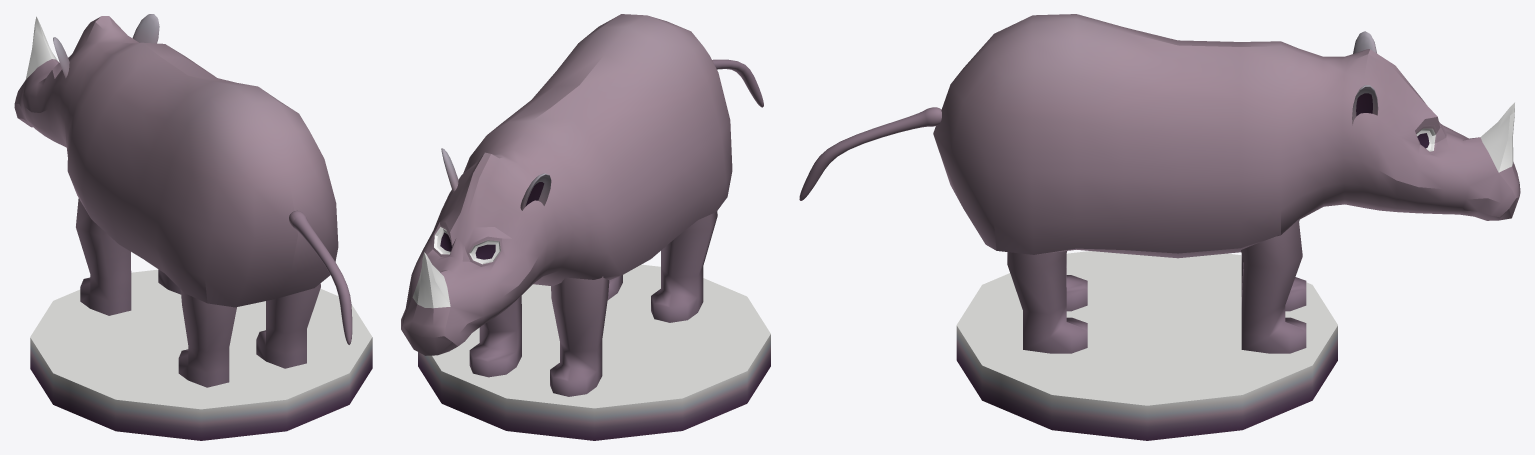
File: Statue Rhino.fbx
3 views of the same model, side by side, from view 1: azimuth 30°, elevation 25°; view 2: azimuth 150°, elevation 25°; view 3: azimuth 270°, elevation 25° (orthographic). The views are drawn at different scales.
Parts seen in each view (by area): view 1: Statue Rhino; view 2: Statue Rhino; view 3: Statue Rhino.
Part boxes in pixels (x1,y1,x2,y2): Statue Rhino: [14, 14, 372, 440]; Statue Rhino: [401, 14, 770, 440]; Statue Rhino: [799, 14, 1520, 440].
Bounding box in the file's own units: 586 × 578 × 1107.
Materials: 2 (2 with a texture image).
